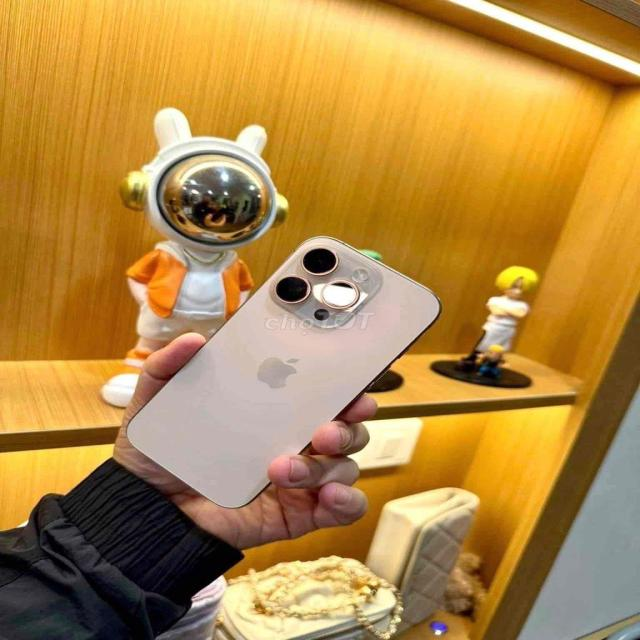gen_16: (117, 229, 448, 506)
